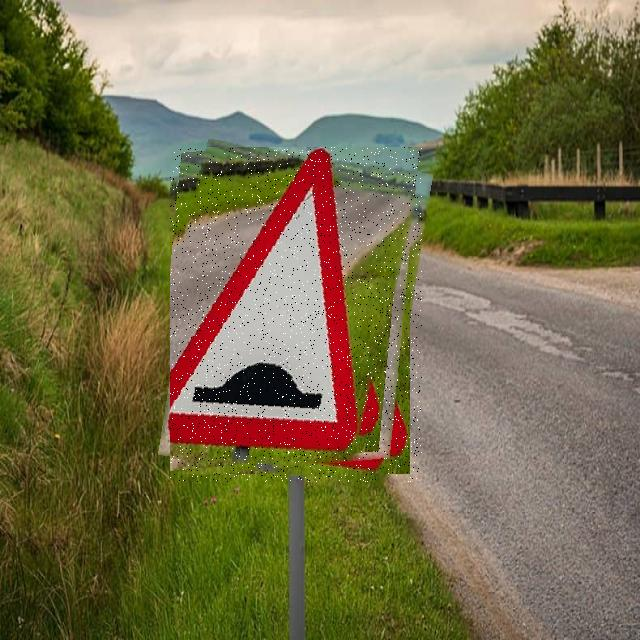hump: (170, 147, 422, 482)
